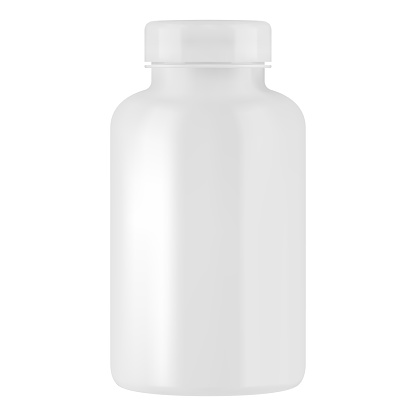medicinejar: (101, 18, 318, 400)
